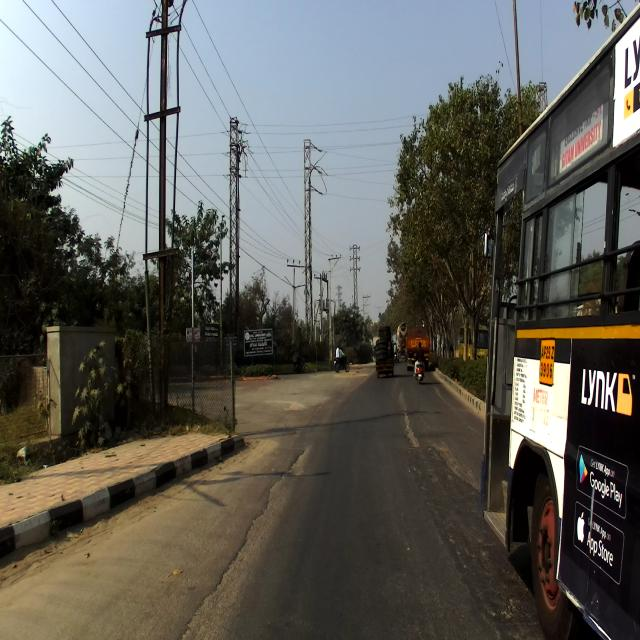bus ahead at: (478, 7, 639, 640)
electric pole ahead at: (138, 0, 183, 424)
